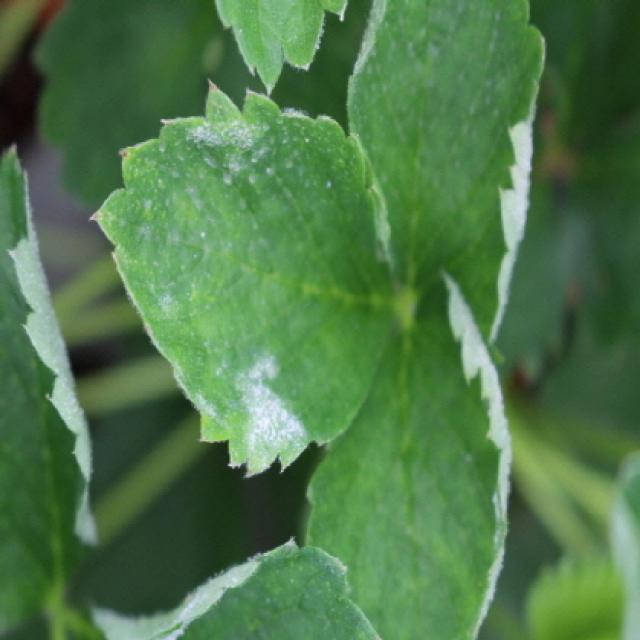powdery_mildew_leaf: (83, 77, 399, 480), (302, 270, 513, 638), (346, 0, 547, 368), (0, 141, 103, 596), (90, 535, 382, 638)
